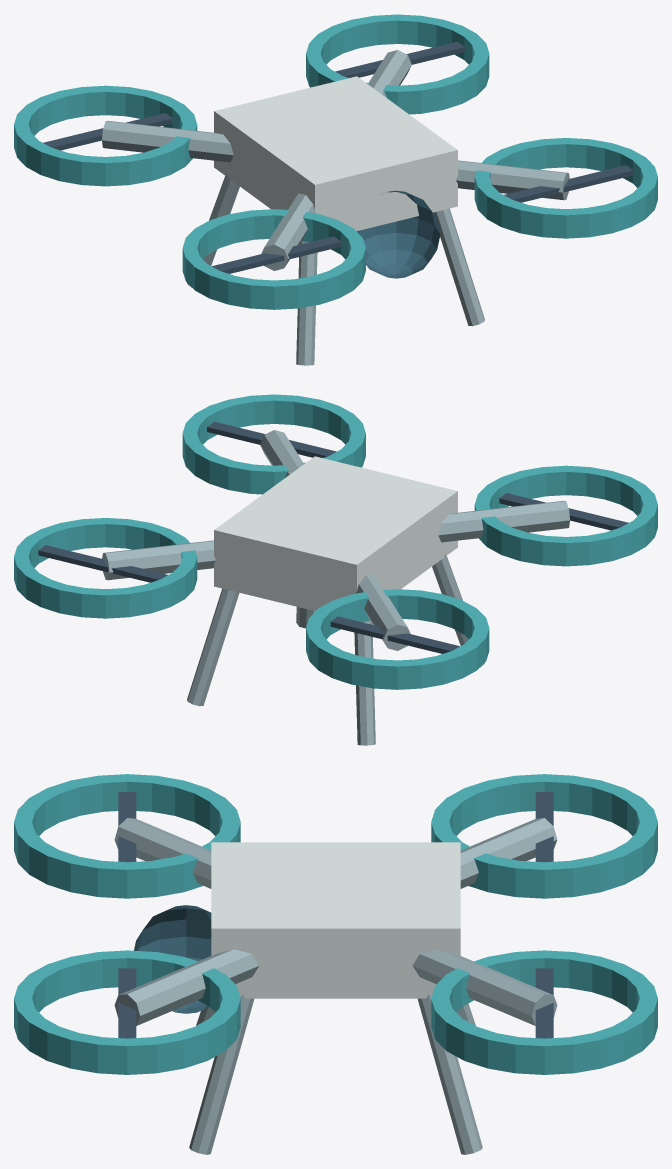
The model's file is inspection-drone.glb.
3 renders of one model, top to bottom at view 1: azimuth 30°, elevation 25°; view 2: azimuth 150°, elevation 25°; view 3: azimuth 270°, elevation 25°, orthographic. The views are drawn at different scales.
Visible parts, largest first — view 1: accent, shell, metal, dark, glass; view 2: accent, shell, metal, dark; view 3: accent, shell, metal, dark, glass.
Part boxes in pixels (box(x1,y1,x2,y2)): accent: box(14, 14, 657, 309); shell: box(214, 76, 457, 231); metal: box(102, 50, 569, 365); dark: box(43, 41, 633, 273); glass: box(357, 190, 440, 278); accent: box(14, 394, 657, 689); shell: box(214, 456, 457, 611); metal: box(102, 430, 569, 745); dark: box(38, 421, 628, 653); accent: box(14, 774, 657, 1074); shell: box(211, 842, 460, 998); metal: box(114, 818, 557, 1154); dark: box(118, 792, 553, 1038); glass: box(134, 905, 211, 1013).
Size of the model in its own units: 1.42 by 0.528 by 1.42.
